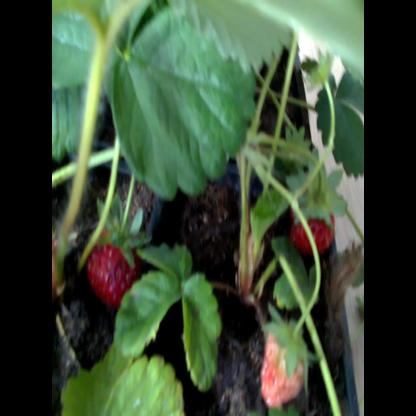ripe: (79, 228, 147, 302), (292, 194, 343, 249)
unripe: (248, 308, 314, 416)
